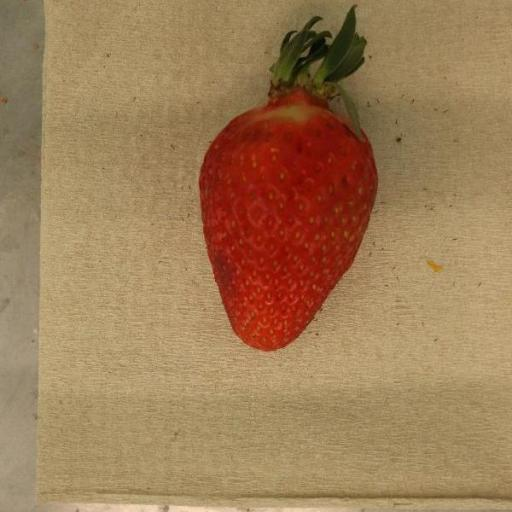Strawberry: (198, 6, 378, 352)
